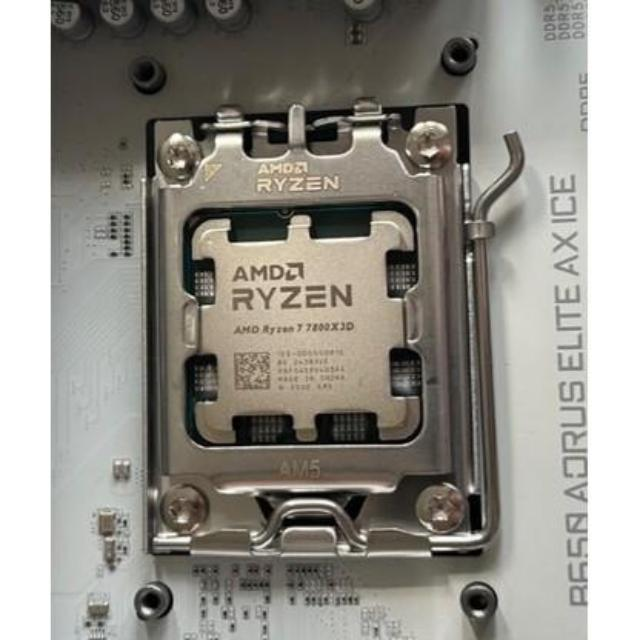CPU: (190, 218, 416, 432)
